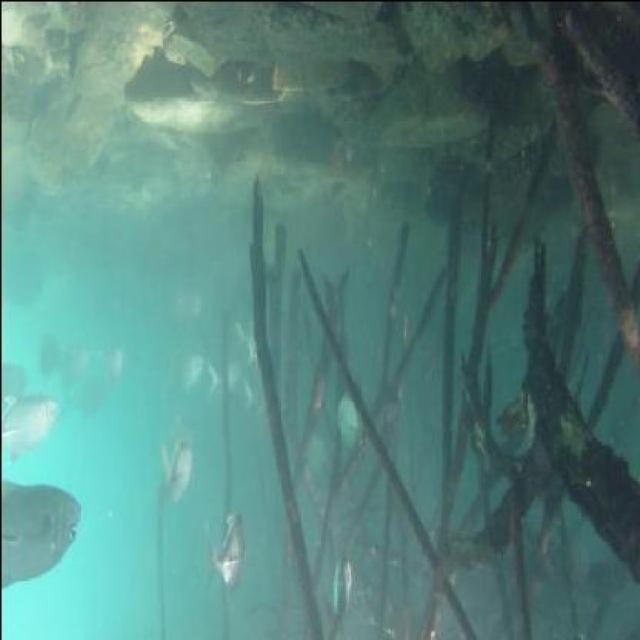Caranx_sexfasciatus_juvenile: (0, 466, 80, 588), (198, 494, 252, 606), (0, 383, 55, 460), (38, 317, 91, 392), (147, 422, 195, 504), (299, 410, 338, 499), (328, 374, 368, 460), (322, 538, 358, 630), (60, 368, 114, 426), (224, 304, 264, 376), (206, 344, 245, 410), (173, 325, 205, 404), (167, 266, 204, 334), (1, 353, 32, 416), (88, 327, 128, 375)
